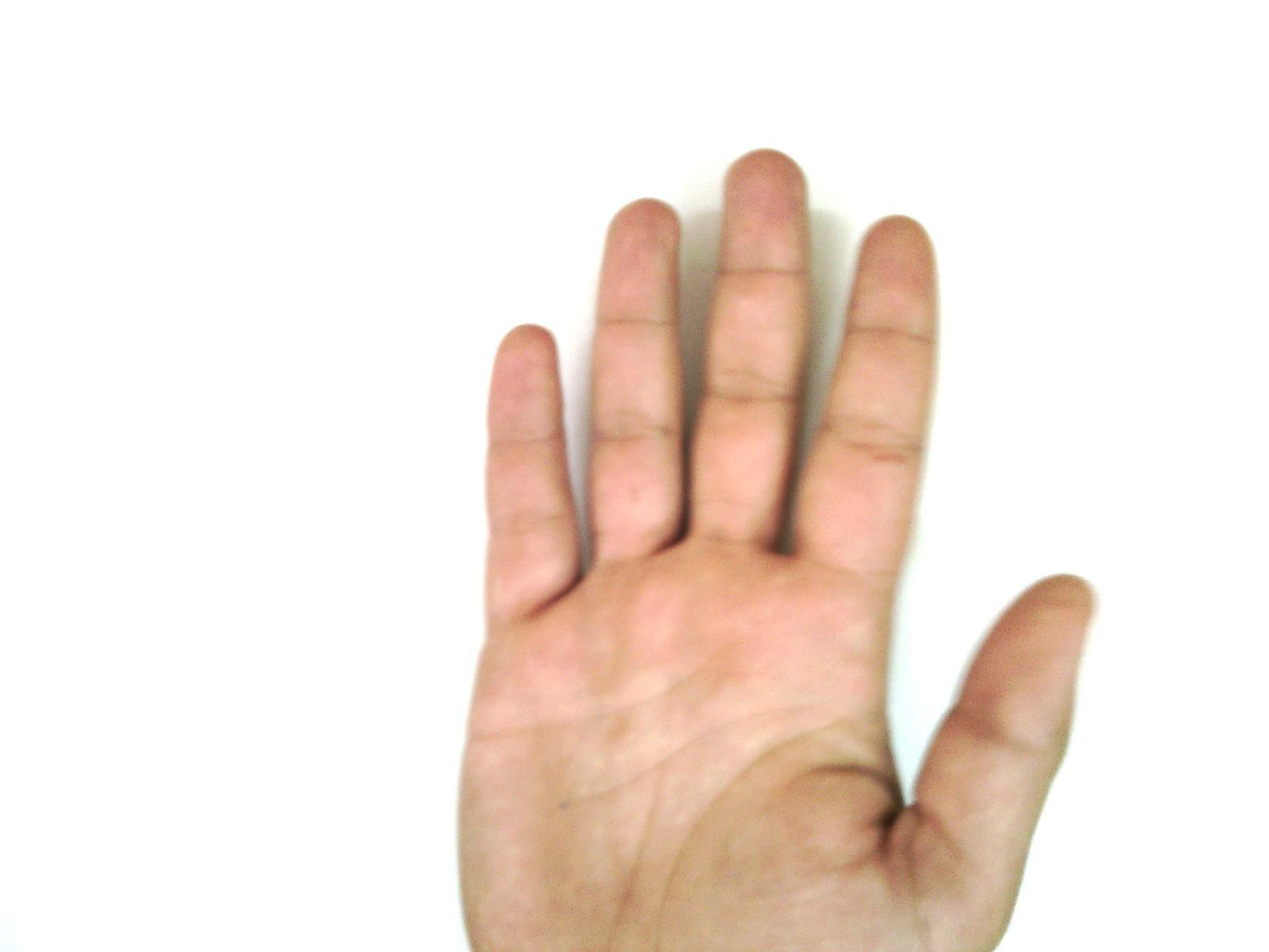open_palm: (452, 148, 1100, 951)
